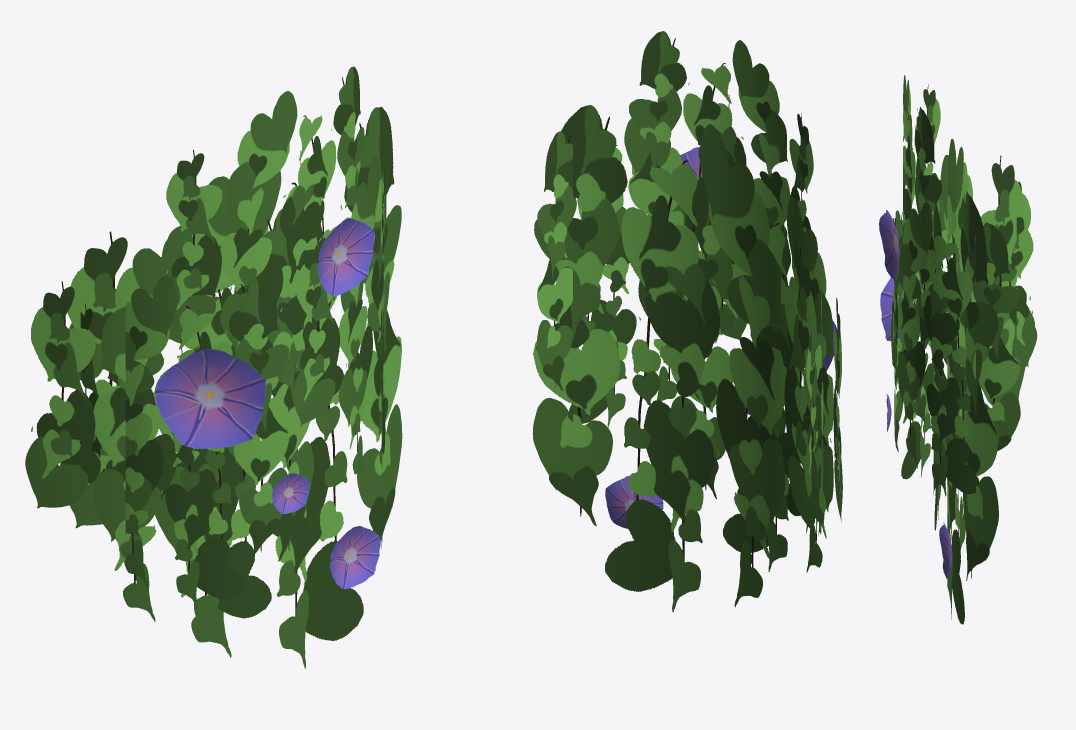
File: plant 5.fbx
The picture shows the model from 3 angles, left to right: view 1: azimuth 30°, elevation 25°; view 2: azimuth 150°, elevation 25°; view 3: azimuth 270°, elevation 25°; orthographic projection. The views are drawn at different scales.
Parts seen in each view (by area): view 1: Plane004, Plane005, Plane003, Plane001, Plane002, Plane007, Plane006, Plane009, Plane008; view 2: Plane005, Plane001, Plane004, Plane002, Plane003, Plane009; view 3: Plane002, Plane005, Plane003, Plane001, Plane004, Plane006, Plane007, Plane009.
Part boxes in pixels (x1,y1,x2,y2): Plane004: [25, 209, 313, 637]; Plane005: [60, 106, 402, 668]; Plane003: [69, 275, 289, 609]; Plane001: [166, 66, 364, 395]; Plane002: [292, 154, 386, 478]; Plane007: [155, 349, 266, 448]; Plane006: [317, 218, 374, 295]; Plane009: [330, 526, 380, 588]; Plane008: [272, 473, 309, 513]; Plane005: [532, 105, 819, 612]; Plane001: [628, 31, 813, 342]; Plane004: [671, 177, 842, 572]; Plane002: [536, 118, 747, 427]; Plane003: [774, 223, 823, 535]; Plane009: [605, 475, 663, 528]; Plane002: [891, 202, 1020, 496]; Plane005: [947, 139, 1025, 624]; Plane003: [894, 206, 1037, 479]; Plane001: [903, 75, 942, 353]; Plane004: [933, 154, 1034, 530]; Plane006: [879, 209, 899, 279]; Plane007: [880, 278, 923, 341]; Plane009: [939, 522, 952, 578].
Size of the model in its own units: 47 by 70.22 by 21.42.
